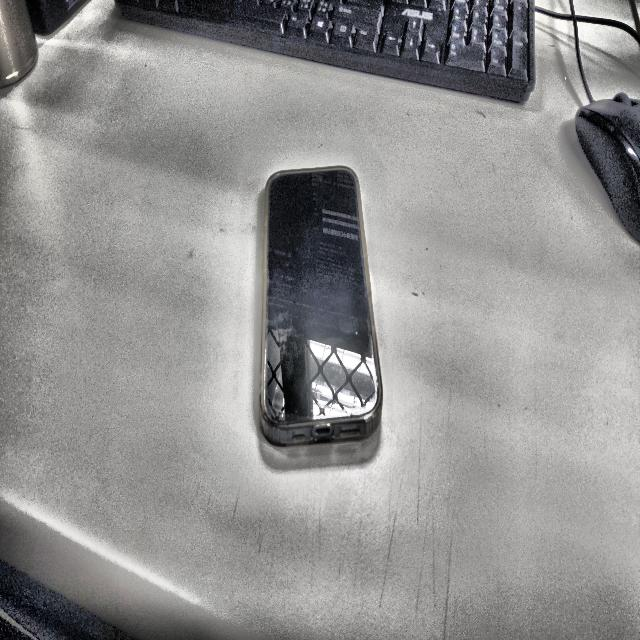Keyboard: (116, 0, 535, 103)
MOUSE: (575, 94, 640, 242)
PHONE: (259, 167, 382, 446)
